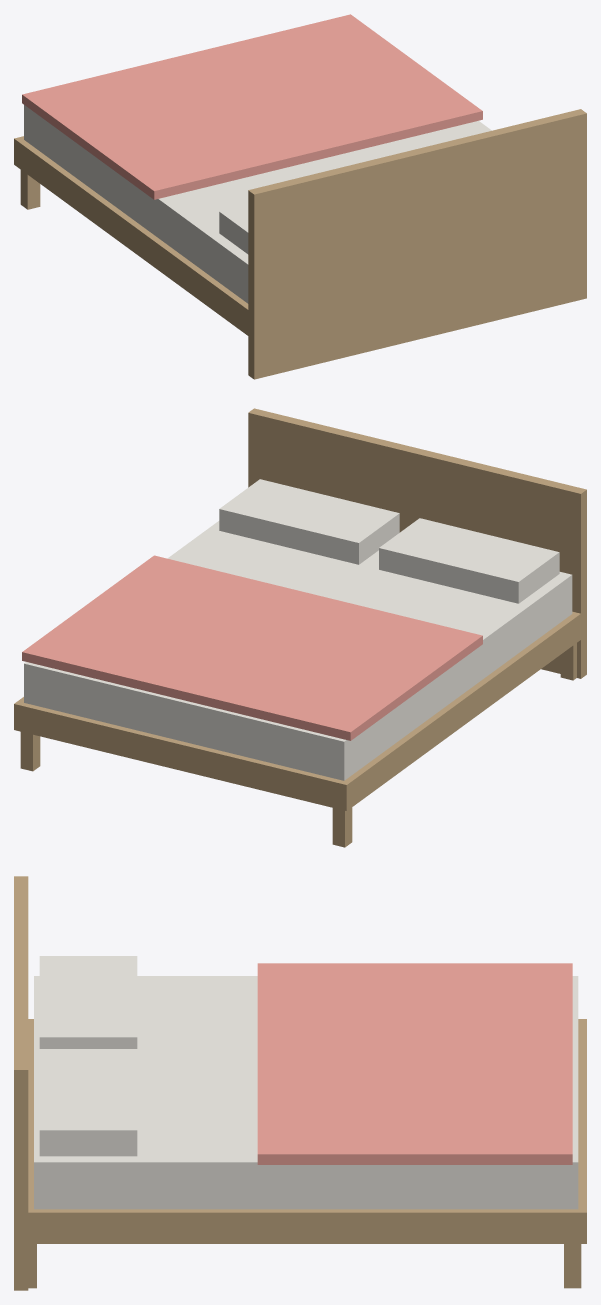
File: bb_set_doublebed.fbx
3 views of the same model, one above another, from view 1: azimuth 30°, elevation 25°; view 2: azimuth 150°, elevation 25°; view 3: azimuth 270°, elevation 25° (orthographic). The views are drawn at different scales.
Visible parts, largest first — view 1: bb_set_doublebed; view 2: bb_set_doublebed; view 3: bb_set_doublebed.
Boxes of the visible parts, x1,y1,x2,y2 form: bb_set_doublebed: (14,14,586,379); bb_set_doublebed: (14,408,586,847); bb_set_doublebed: (14,876,586,1290).
Size of the model in its own units: 1.6 by 0.85 by 2.
